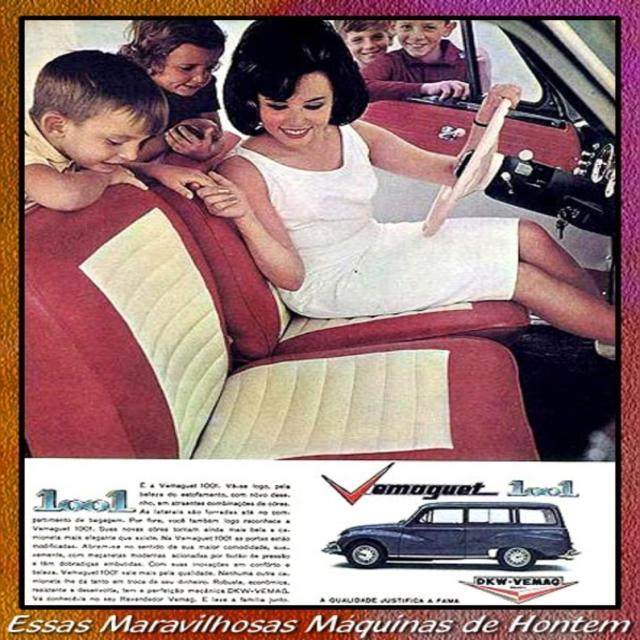car: (326, 500, 569, 579)
